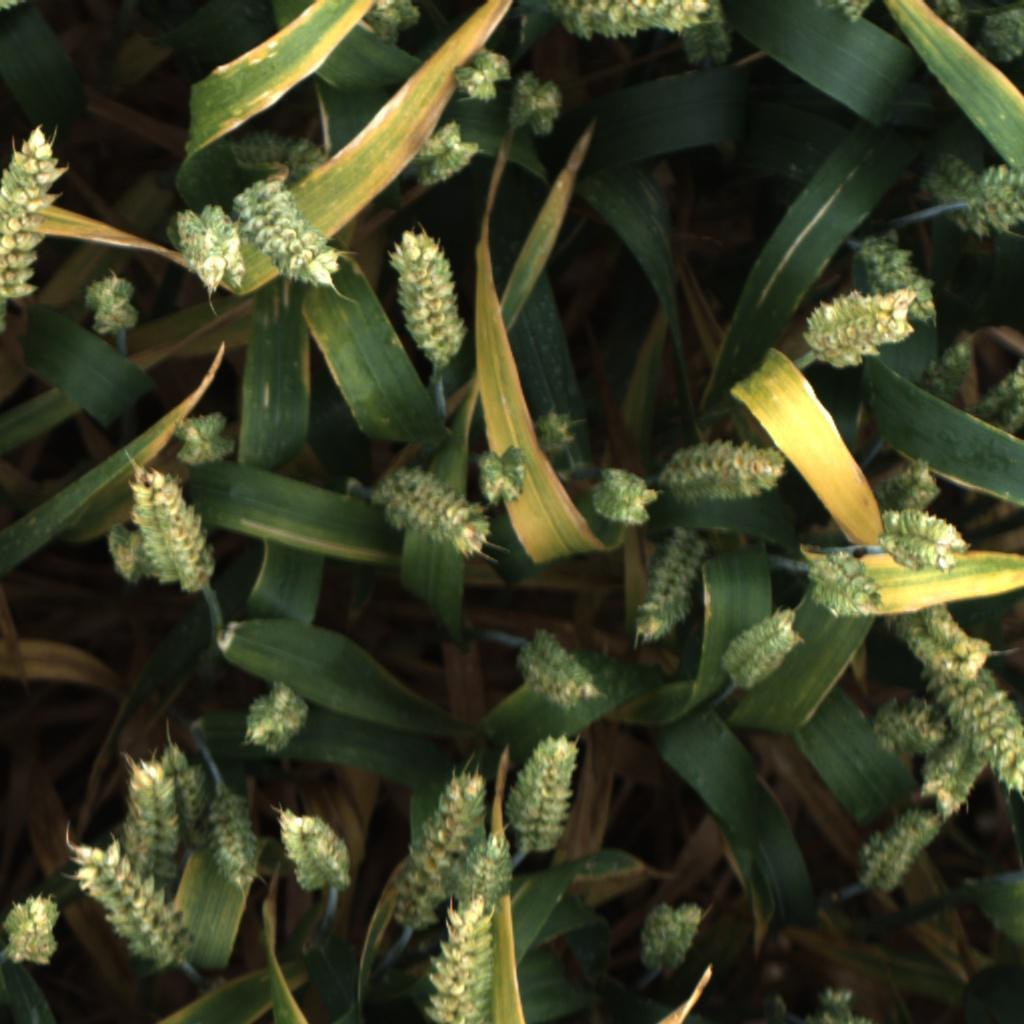0-0: (391, 762, 494, 935), (68, 840, 199, 973), (359, 459, 498, 566), (237, 171, 352, 296), (123, 462, 231, 593), (833, 218, 951, 334), (382, 224, 473, 368), (876, 588, 997, 690), (795, 275, 918, 375), (0, 124, 63, 299), (941, 674, 1024, 806), (508, 733, 596, 854), (626, 517, 707, 648), (271, 795, 364, 898), (668, 432, 786, 505), (425, 897, 491, 1024), (847, 806, 939, 897), (503, 623, 597, 712), (557, 0, 709, 54), (797, 544, 890, 632), (119, 741, 188, 859), (721, 601, 802, 698), (193, 792, 264, 901), (178, 207, 257, 303), (874, 510, 976, 574), (633, 891, 708, 977), (78, 266, 155, 348), (579, 462, 664, 533), (235, 682, 312, 756), (0, 890, 65, 976), (920, 743, 988, 824), (225, 128, 328, 181), (149, 729, 204, 827), (458, 827, 516, 918), (868, 693, 945, 761), (416, 116, 481, 190), (964, 160, 1024, 239), (468, 440, 529, 515), (505, 71, 570, 138), (873, 451, 935, 517), (918, 340, 968, 421), (167, 407, 234, 466), (689, 0, 742, 74), (450, 46, 515, 101), (980, 354, 1024, 430), (973, 2, 1024, 67), (533, 400, 582, 461)
